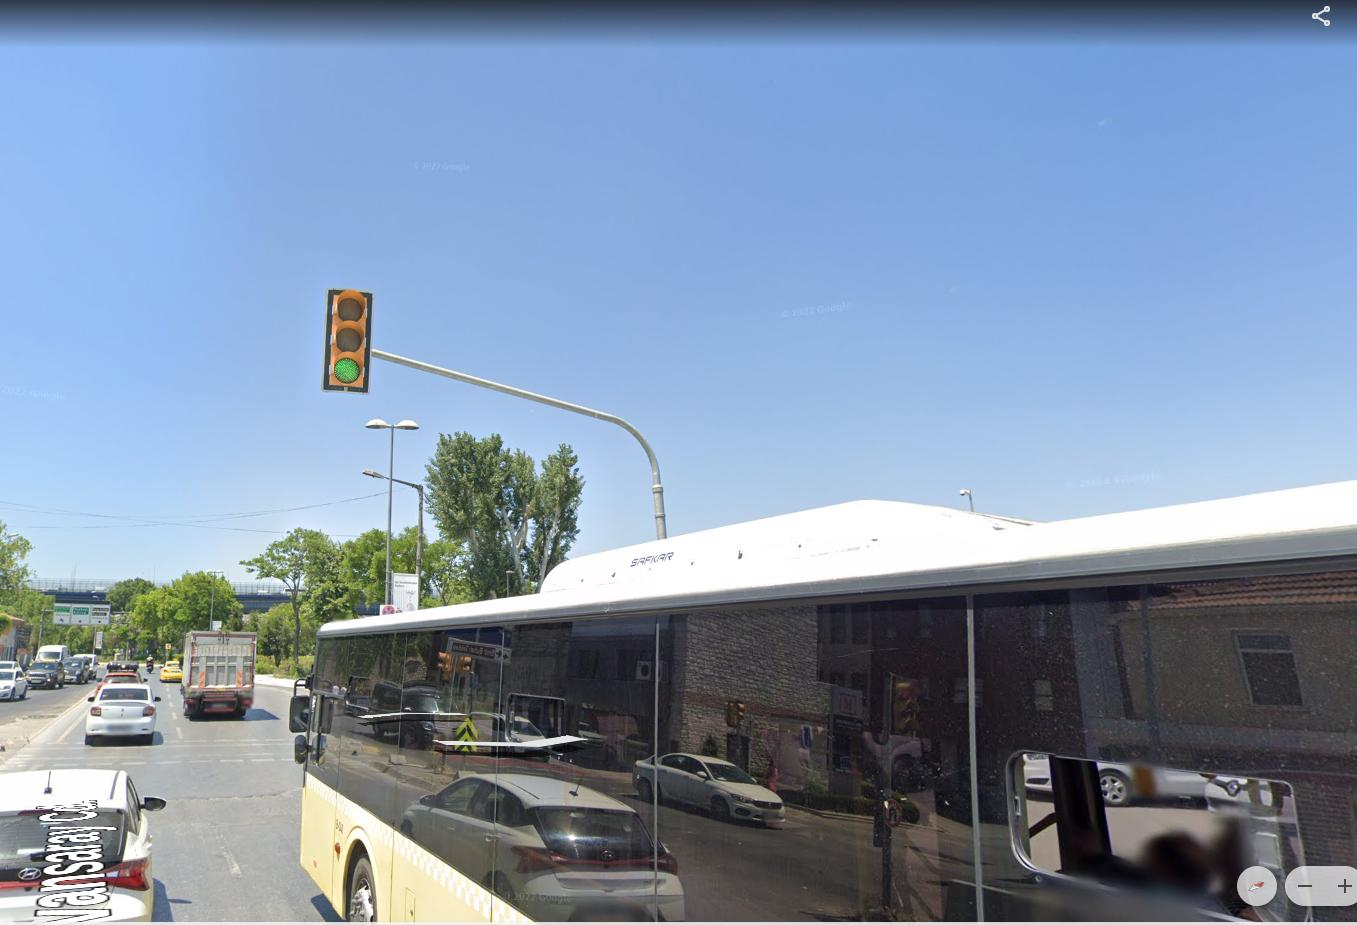greenlight: (326, 290, 370, 393)
